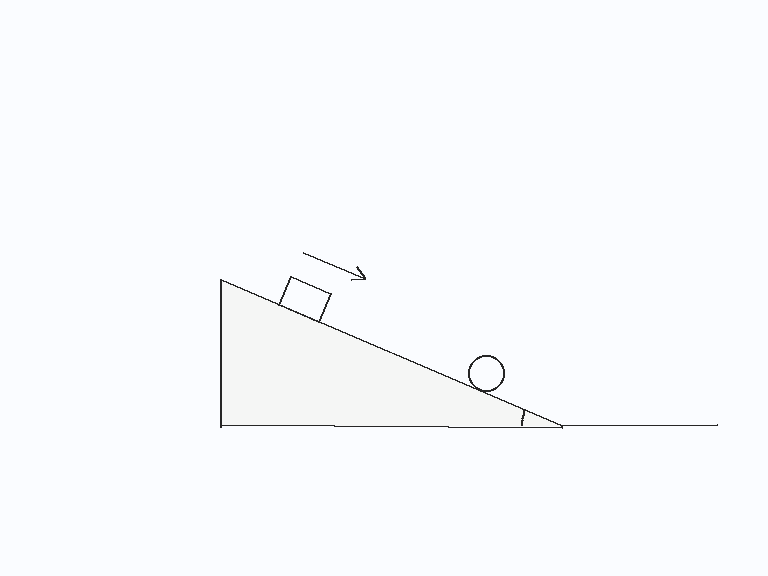ball: (466, 353, 506, 393)
block: (277, 275, 332, 323)
ramp: (218, 278, 564, 427)
